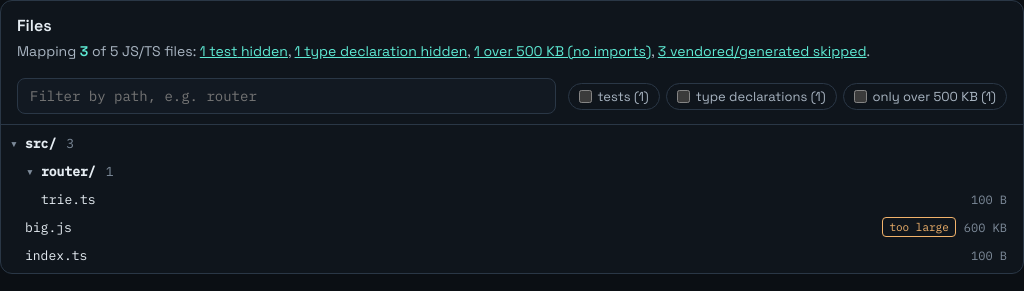
Test: FileInventory › collapses a folder and filters by path
Click the button "▾ router/ 1" at (69, 171), box [25, 161, 113, 182]
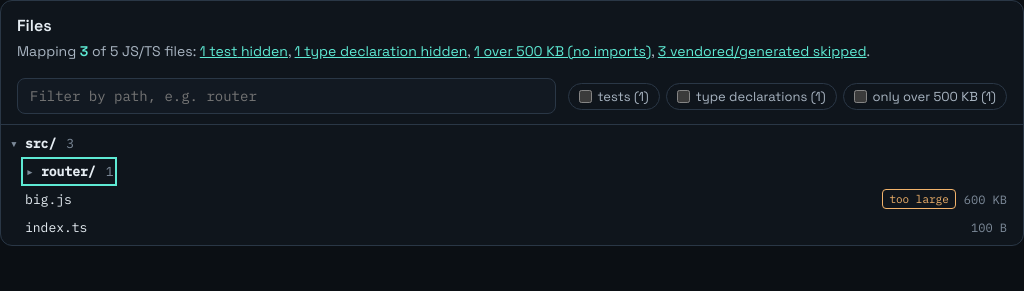
Type "trie" into the search field named "Filter files by path" at (286, 96), box [17, 78, 556, 114]
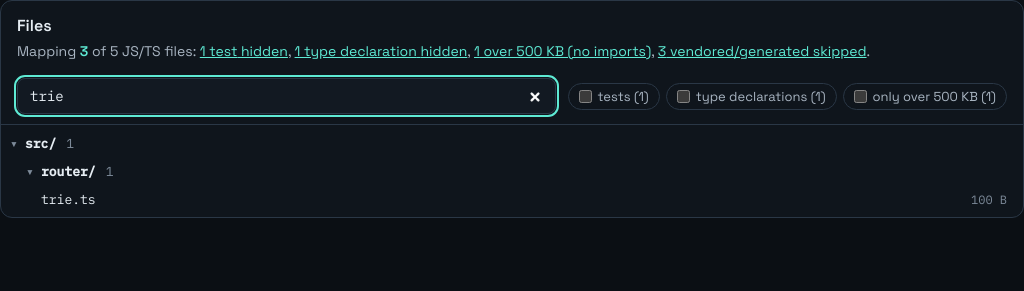
Replace the text in the search field named "Filter files by path" with "nothing-matches" at (286, 96), box [17, 78, 556, 114]
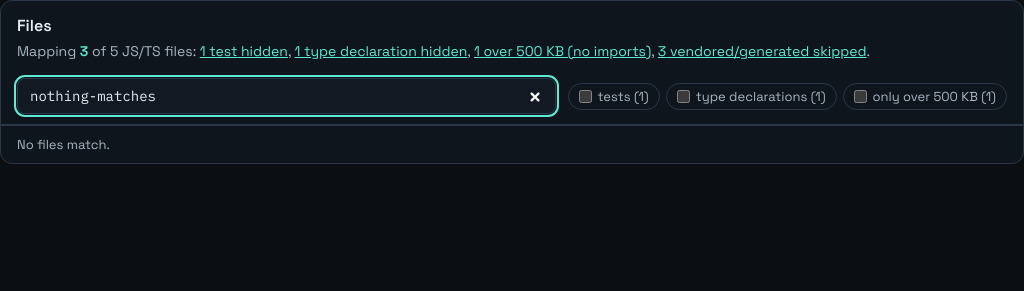
expect the text "No files match." is shown: met, box [1, 125, 1023, 163]
